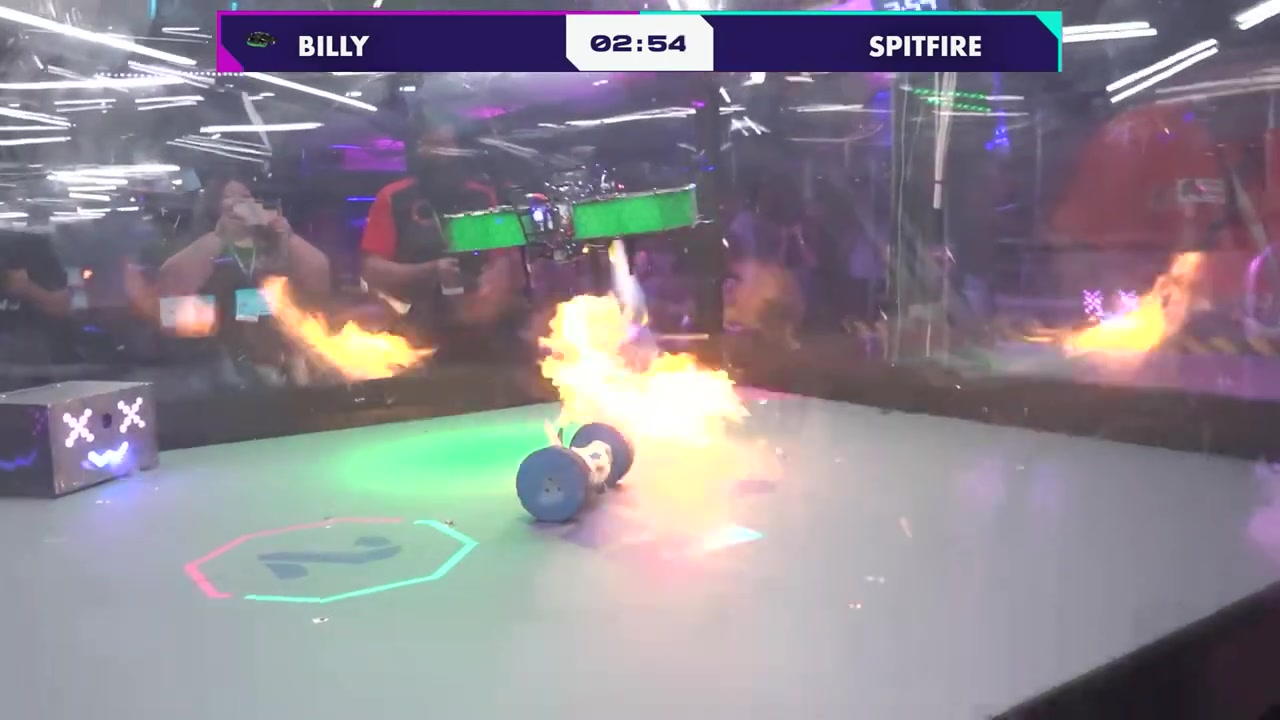combatbot: (442, 184, 695, 256), (515, 423, 638, 527)
housebot: (0, 377, 160, 500)
